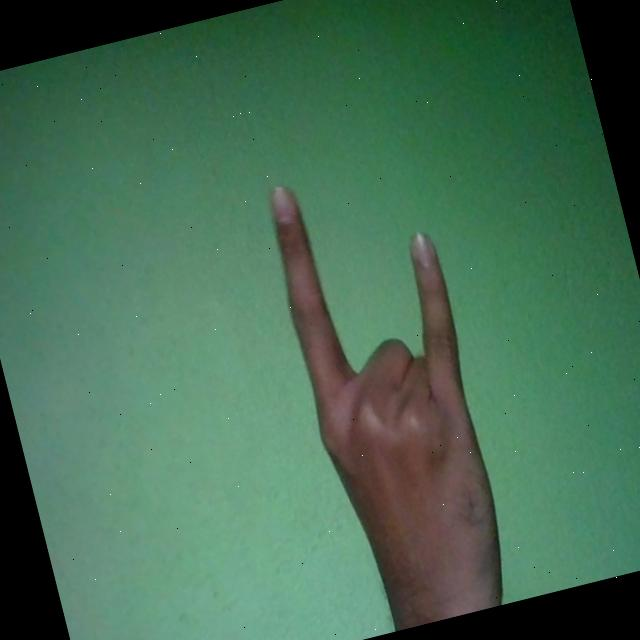open Plam: (258, 148, 526, 637)
